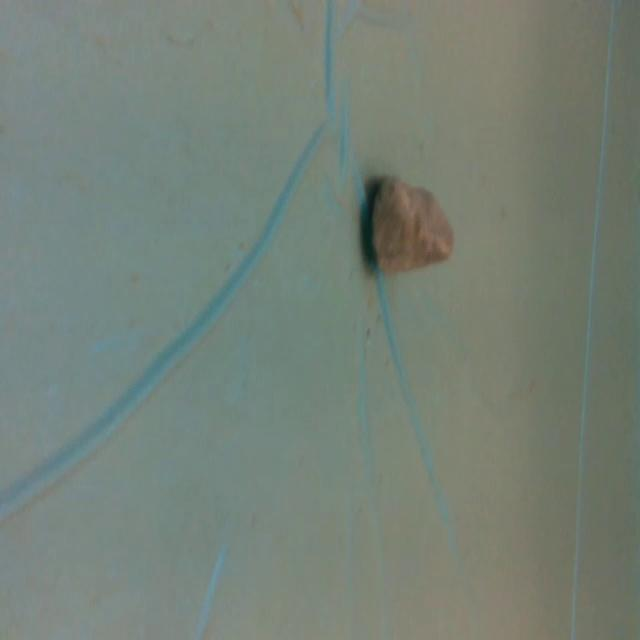rock: (367, 167, 460, 283)
